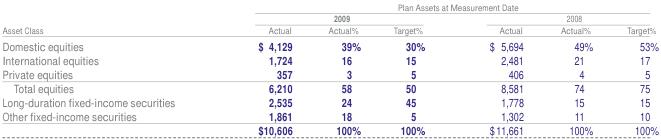table: (1, 0, 658, 137)
table column: (1, 0, 215, 137), (215, 0, 309, 137), (456, 0, 541, 137), (376, 0, 456, 137), (541, 0, 609, 137), (309, 0, 376, 137), (609, 0, 658, 137)
table column header: (1, 0, 658, 36)
table row: (1, 36, 658, 52), (1, 122, 658, 137), (1, 52, 658, 66), (1, 66, 658, 80), (1, 80, 658, 94), (1, 94, 658, 108), (1, 108, 658, 122), (1, 23, 658, 36), (1, 0, 658, 12), (1, 12, 658, 23)
table spanning cell: (1, 0, 215, 36), (215, 0, 658, 12), (215, 12, 456, 23), (456, 12, 658, 23)
